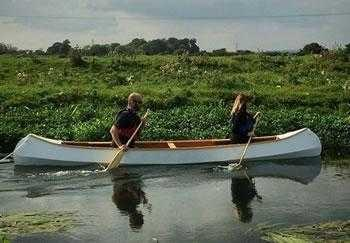kayak: (14, 131, 322, 169)
